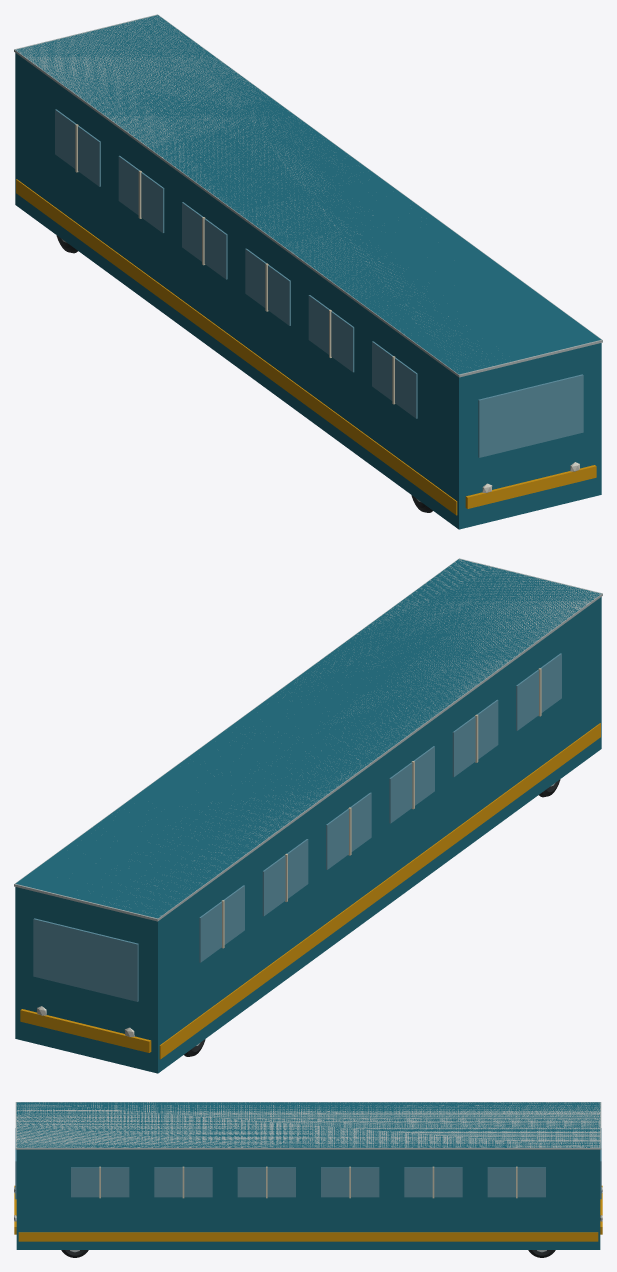
File: train.glb
3 renders of one model, top to bottom at view 1: azimuth 30°, elevation 25°; view 2: azimuth 150°, elevation 25°; view 3: azimuth 270°, elevation 25°, orthographic. The views are drawn at different scales.
Parts seen in each view (by area): view 1: TrainMesh; view 2: TrainMesh; view 3: TrainMesh.
Boxes of the visible parts, <box> form: TrainMesh: <box>14,14,602,529</box>; TrainMesh: <box>14,558,602,1073</box>; TrainMesh: <box>14,1102,602,1257</box>.
Bounding box in the file's own units: 2.7 × 2.99 × 14.13.
